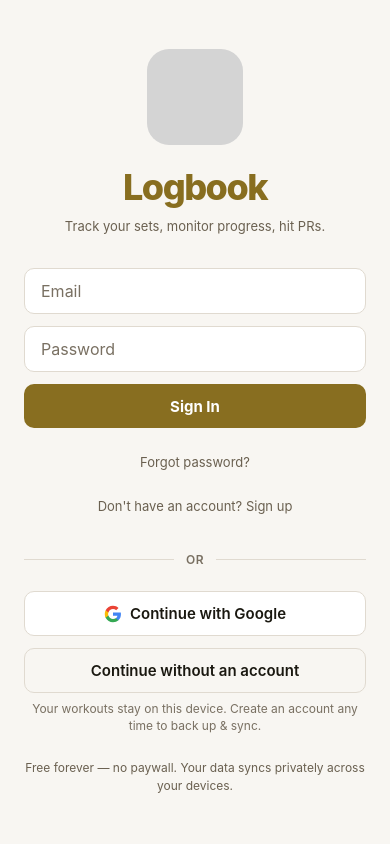
Test case: AuthScreen › forgot password (#1430) › surfaces a request error and stays on the sign-in form
Type "a@b.co" into the field with placeholder "Email" at (195, 292), box [24,268,366,314]
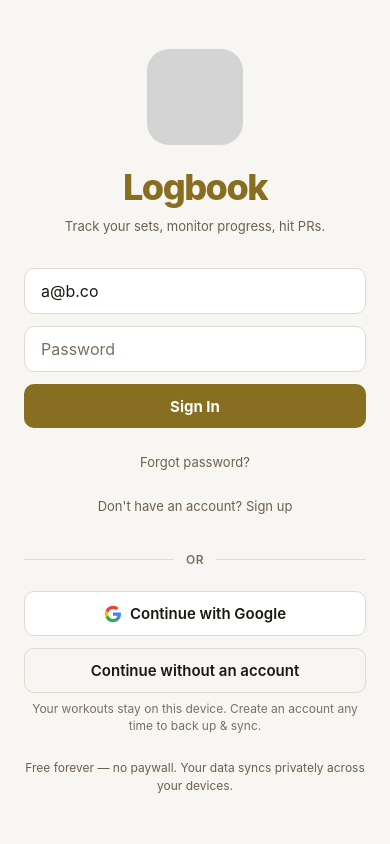
Click the button "Forgot password?" at (195, 462), box [140,440,250,484]
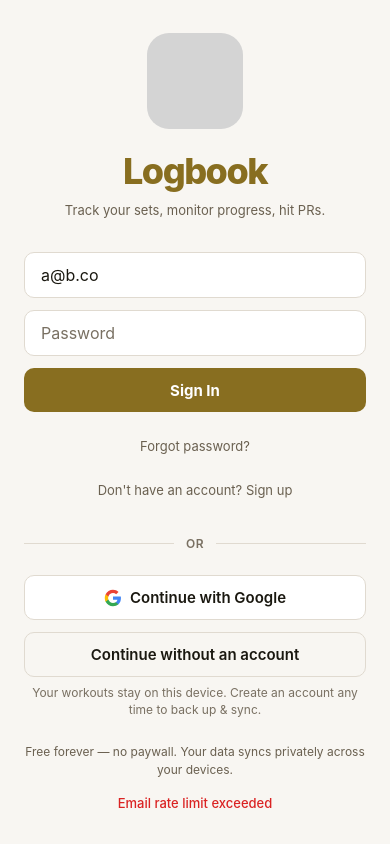
Expected: the message with class "authMessage" reads "Email rate limit exceeded", [118,795,272,811]
